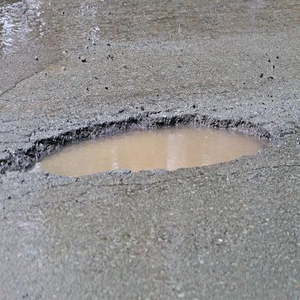pothole: (13, 112, 286, 179)
